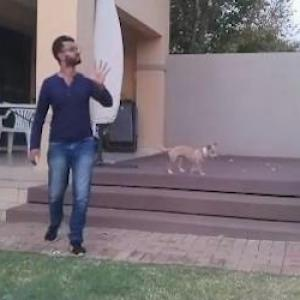follow_hand: (82, 53, 115, 89)
